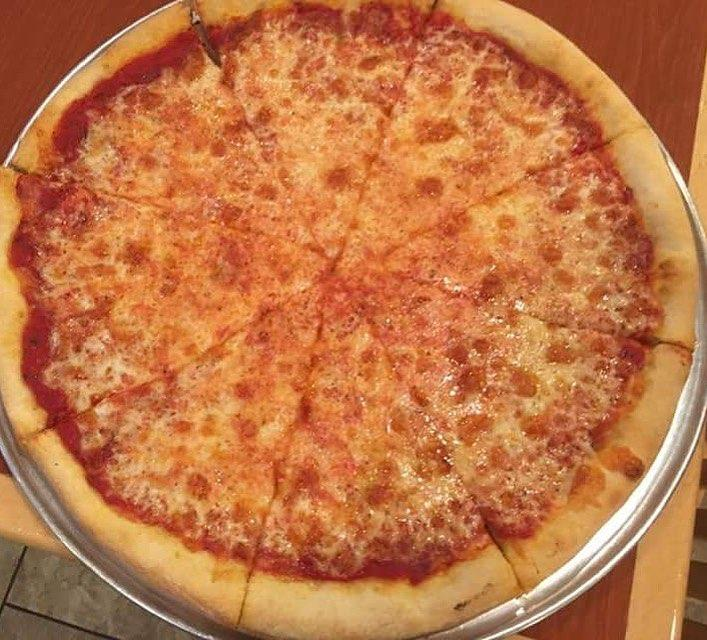Pizza: (5, 0, 707, 627)
